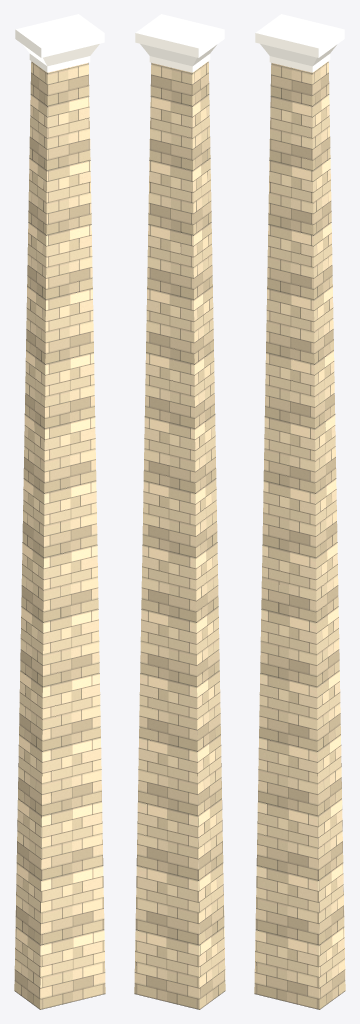
Rendered from pier.glb.
The picture shows the model from 3 angles, left to right: view 1: azimuth 30°, elevation 25°; view 2: azimuth 150°, elevation 25°; view 3: azimuth 330°, elevation 25°; orthographic projection.
Visible parts, largest first — view 1: Shaft, Cap, Corbel, Necking; view 2: Shaft, Cap, Corbel, Necking; view 3: Shaft, Cap, Corbel, Necking.
Boxes of the visible parts, x1,y1,x2,y2 form: Shaft: (14,61,105,1009); Cap: (15,14,104,57); Corbel: (23,44,99,66); Necking: (29,54,90,72); Shaft: (134,61,225,1009); Cap: (135,14,224,57); Corbel: (140,44,216,66); Necking: (149,54,210,72); Shaft: (254,61,345,1009); Cap: (255,14,344,57); Corbel: (260,44,336,66); Necking: (269,54,330,72).
Bounding box in the file's own units: 3.2 × 45 × 2.2.
2 materials, 1 textured.
